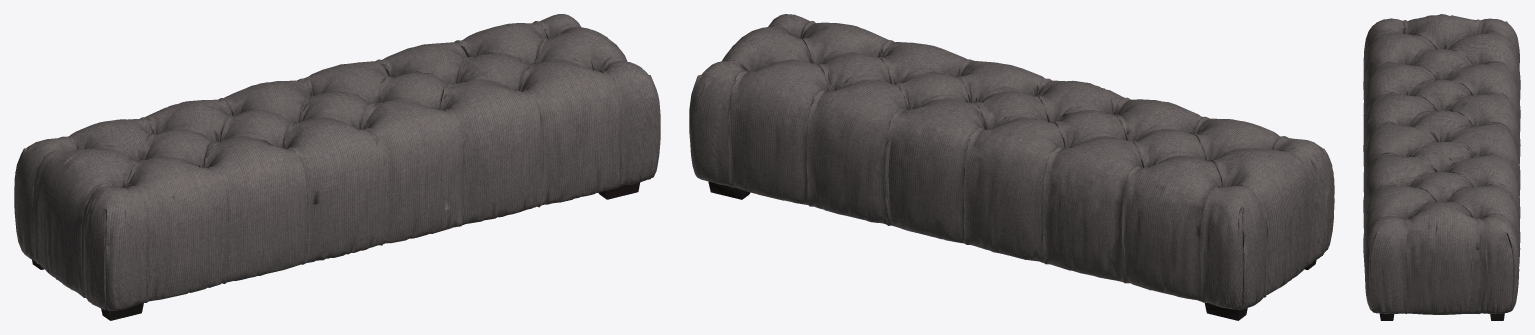
File: raw_model.obj
3 renders of one model, left to right at view 1: azimuth 30°, elevation 25°; view 2: azimuth 150°, elevation 25°; view 3: azimuth 270°, elevation 25°, orthographic. The views are drawn at different scales.
Visible parts, largest first — view 1: solid_001, solid_002; view 2: solid_001, solid_002; view 3: solid_001, solid_002.
Part boxes in pixels (bbox=[...]): solid_001: bbox=[14, 14, 660, 310]; solid_002: bbox=[32, 182, 640, 320]; solid_001: bbox=[689, 14, 1334, 309]; solid_002: bbox=[708, 181, 1316, 320]; solid_001: bbox=[1363, 14, 1520, 314]; solid_002: bbox=[1379, 313, 1504, 320].
Bounding box in the file's own units: 1.72 × 0.3913 × 0.52.
Materials: 1 (1 with a texture image).
